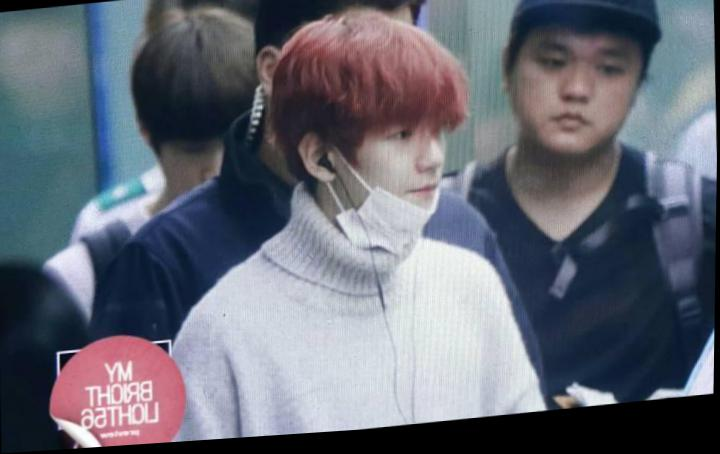NONE: (518, 36, 642, 164)
WRONG: (342, 110, 447, 256)
